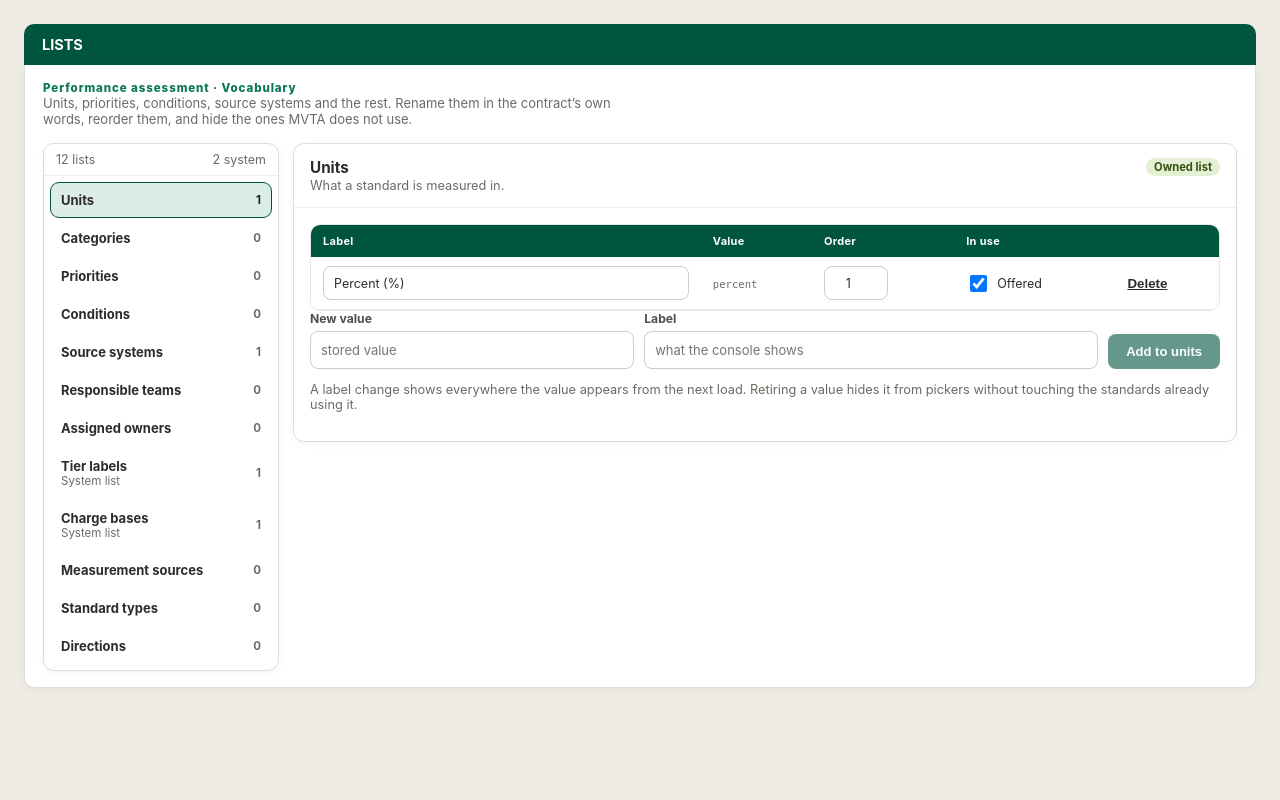
Test: Performance assessment lists › will not let a charge basis be invented or deleted
The image size is (1280, 800).
Click the button "Charge bases System list 1" at x=161, y=525, box [50,500,272,550]
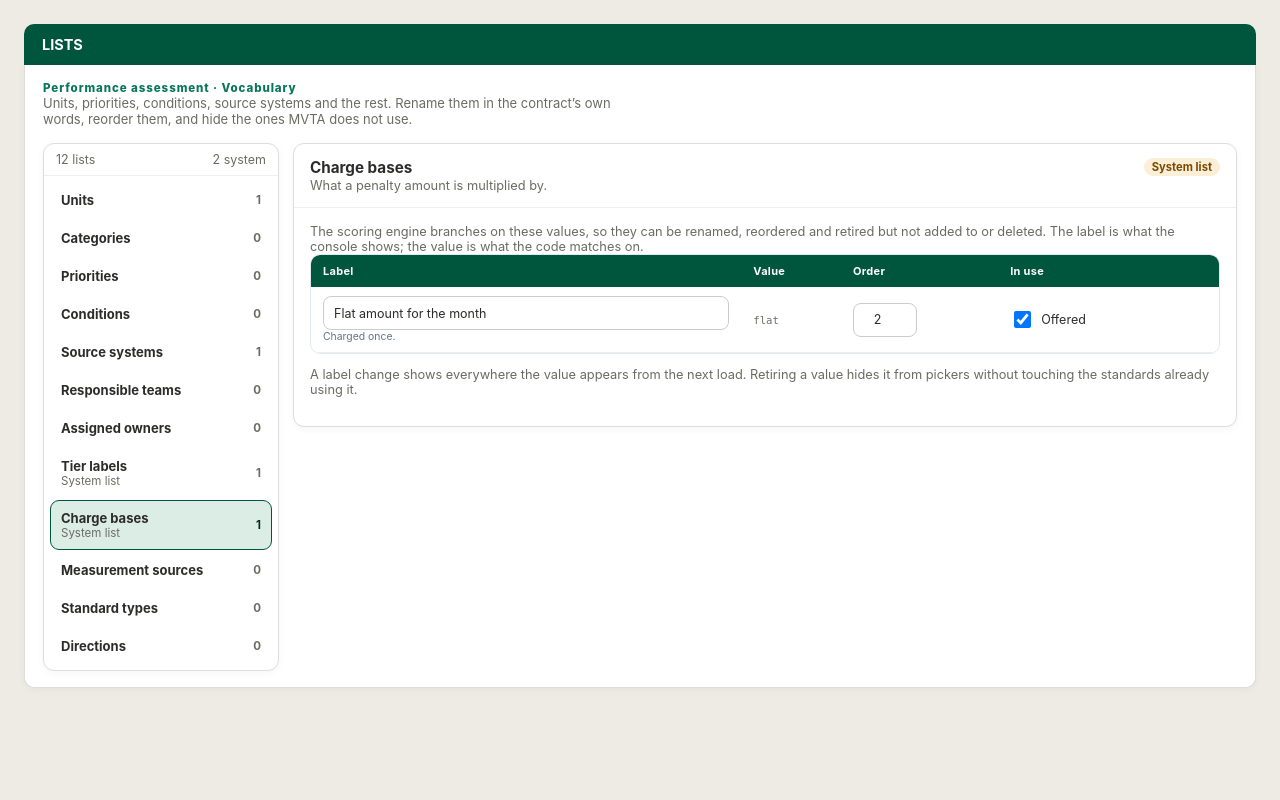
Check: the button "Delete" is not shown
Check: the text "branches on these values" is shown, box [310,224,1175,254]
Check: the button "Add to" is gone
